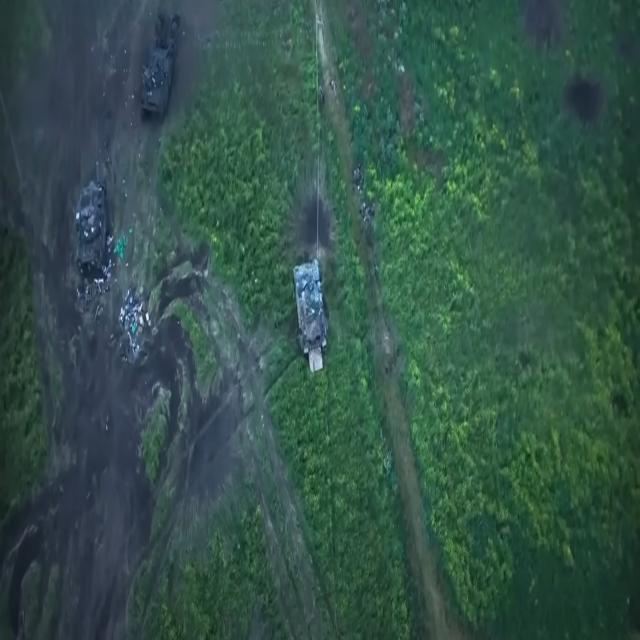AIFV: (294, 259, 330, 380), (75, 178, 107, 283)
MBT: (141, 28, 182, 119)
